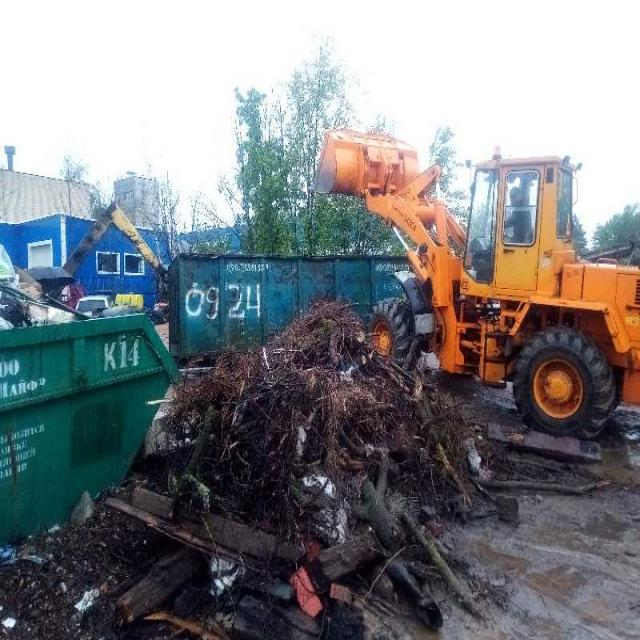Dumpster: (0, 269, 179, 550), (167, 253, 394, 355)
